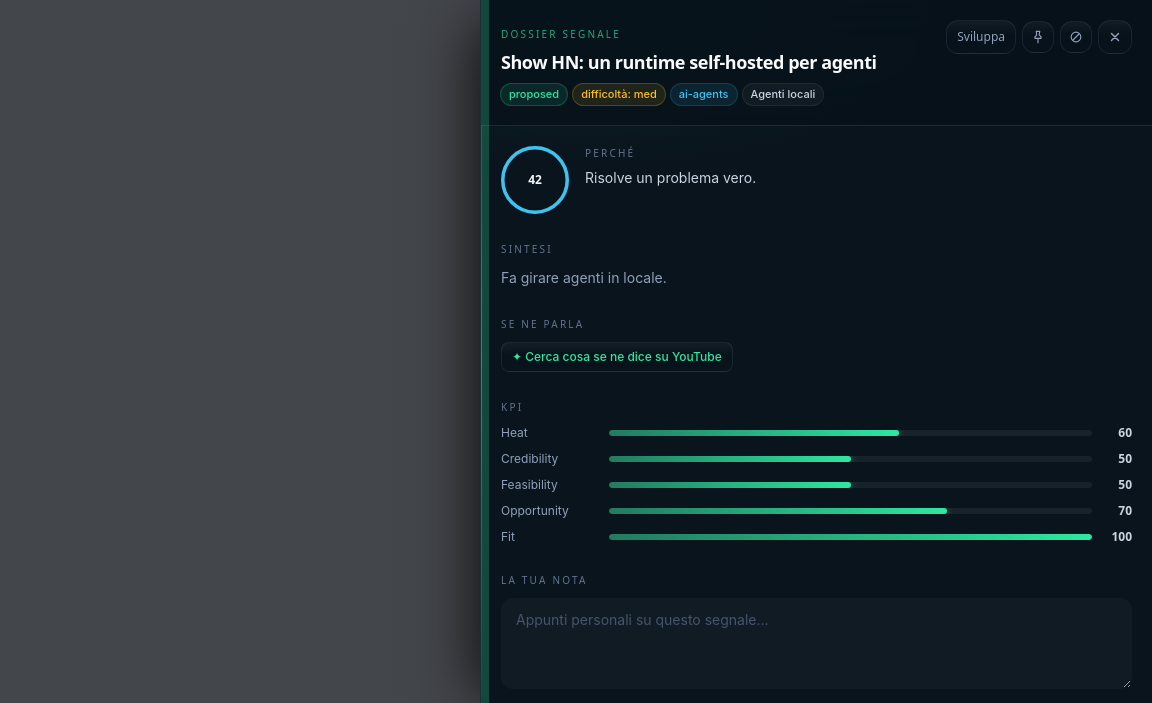
Scenario: IdeaDetail › un salvataggio fallito lo dice, invece di non accadere
The width and height of the screenshot is (1152, 703).
In the text box: [816, 643] box left=501, top=598, right=1132, bottom=689, type "una nota"
(page scrolled)
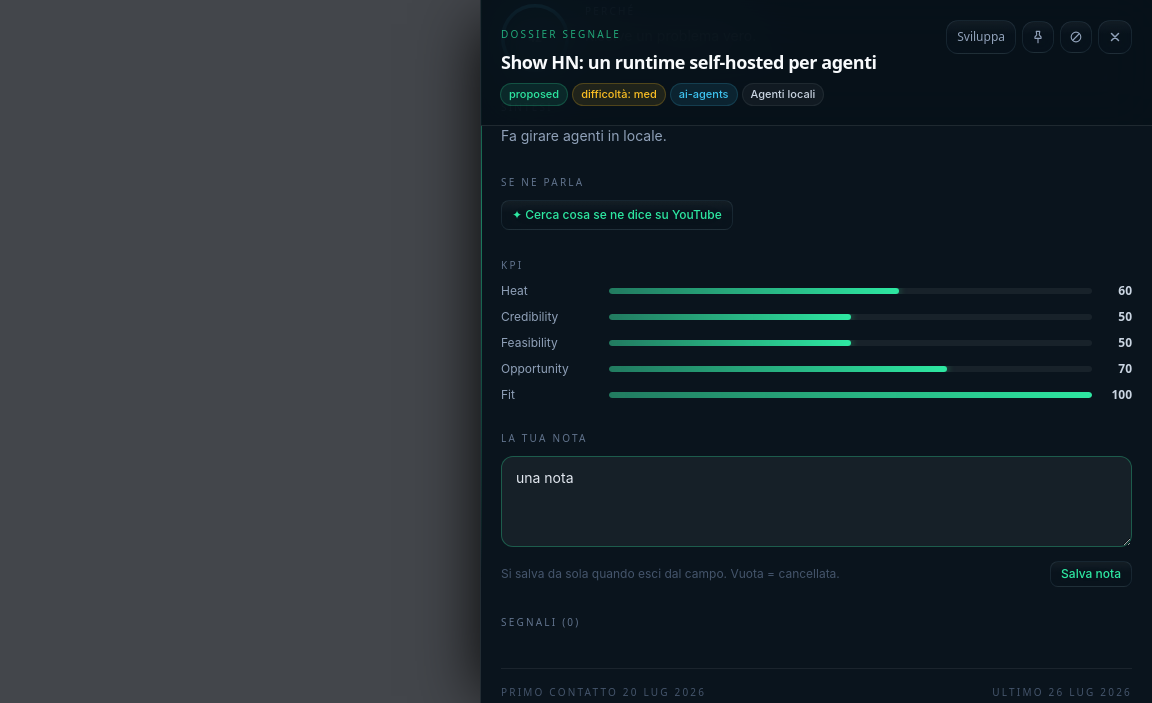
Click the button "Salva nota": [1091, 574] box left=1050, top=560, right=1132, bottom=586
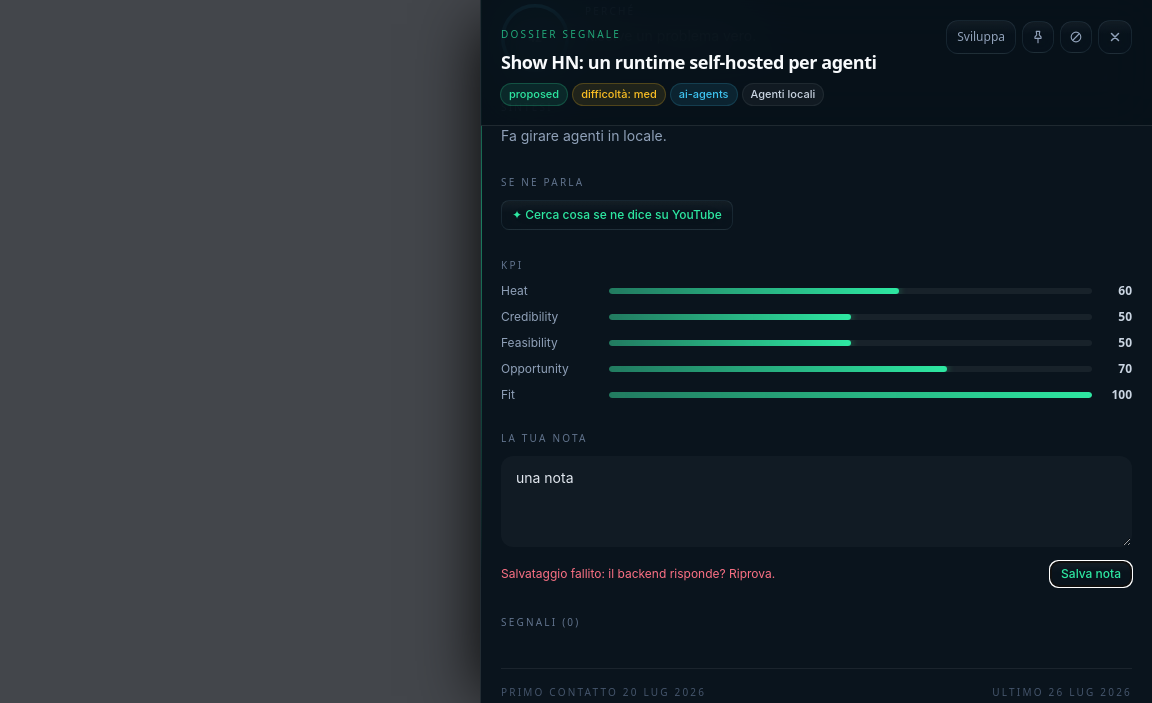
Check: the text "Salvataggio fallito: il backend risponde? Riprova." is shown, box left=501, top=566, right=775, bottom=582
